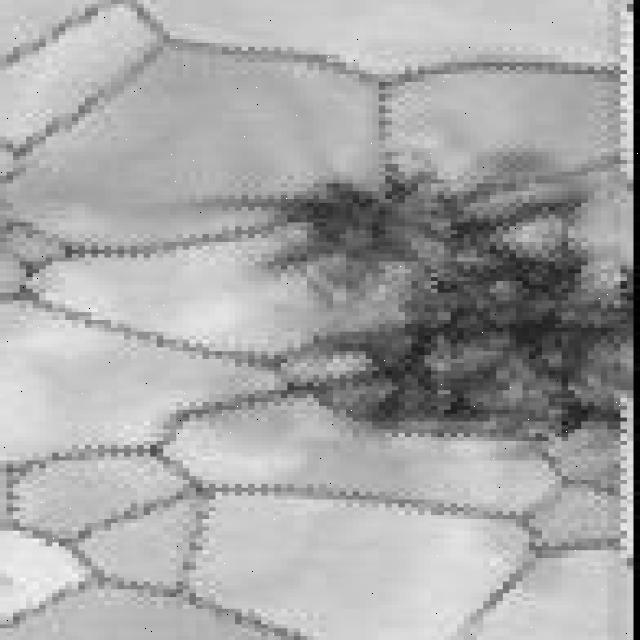good_void: (197, 145, 635, 439)
